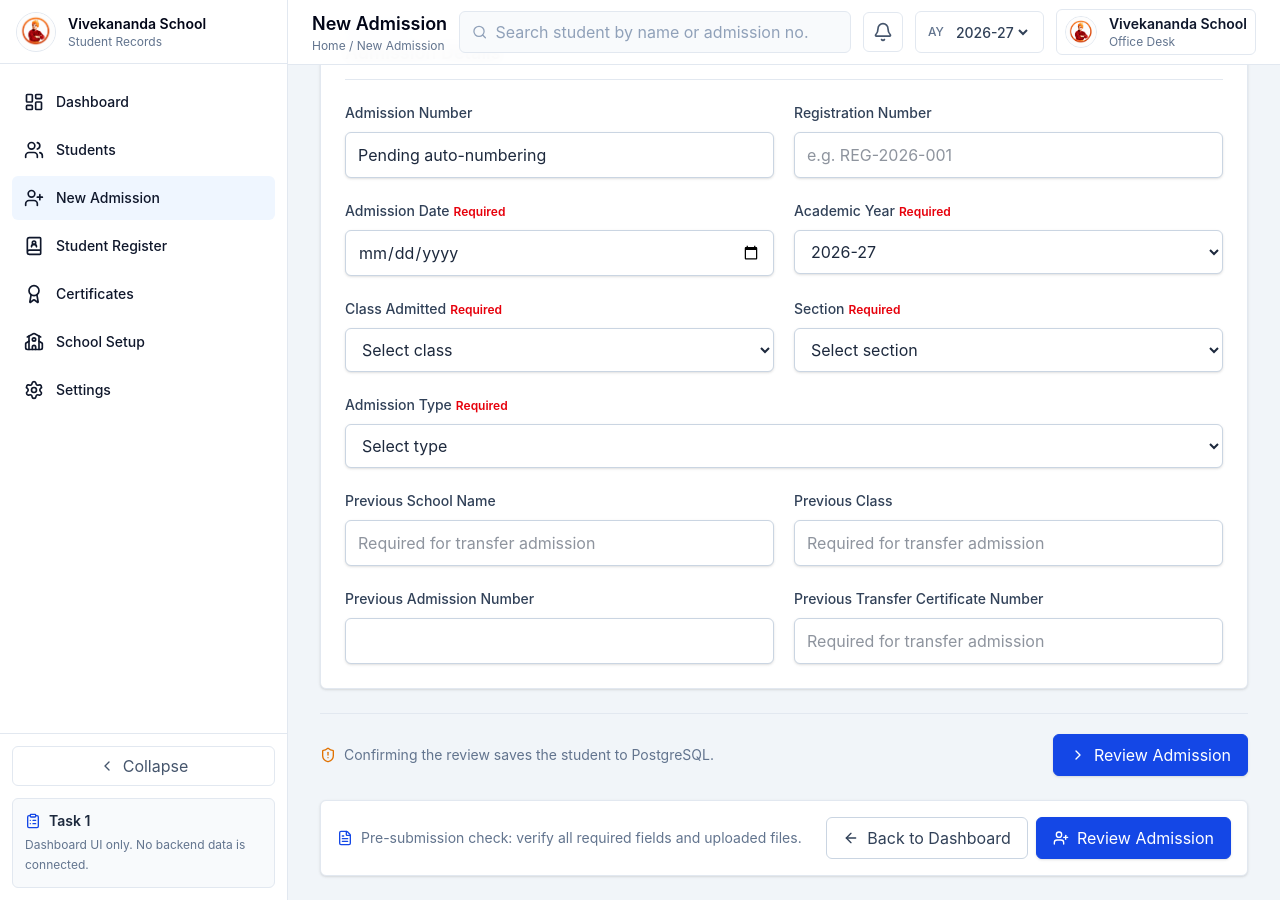
new admission › validates required admission fields before saving
(page scrolled)
Click the button "Review Admission" below "Previous Transfer Certificate Number" at (1150, 755), box [1053,734,1248,776]
(page scrolled)
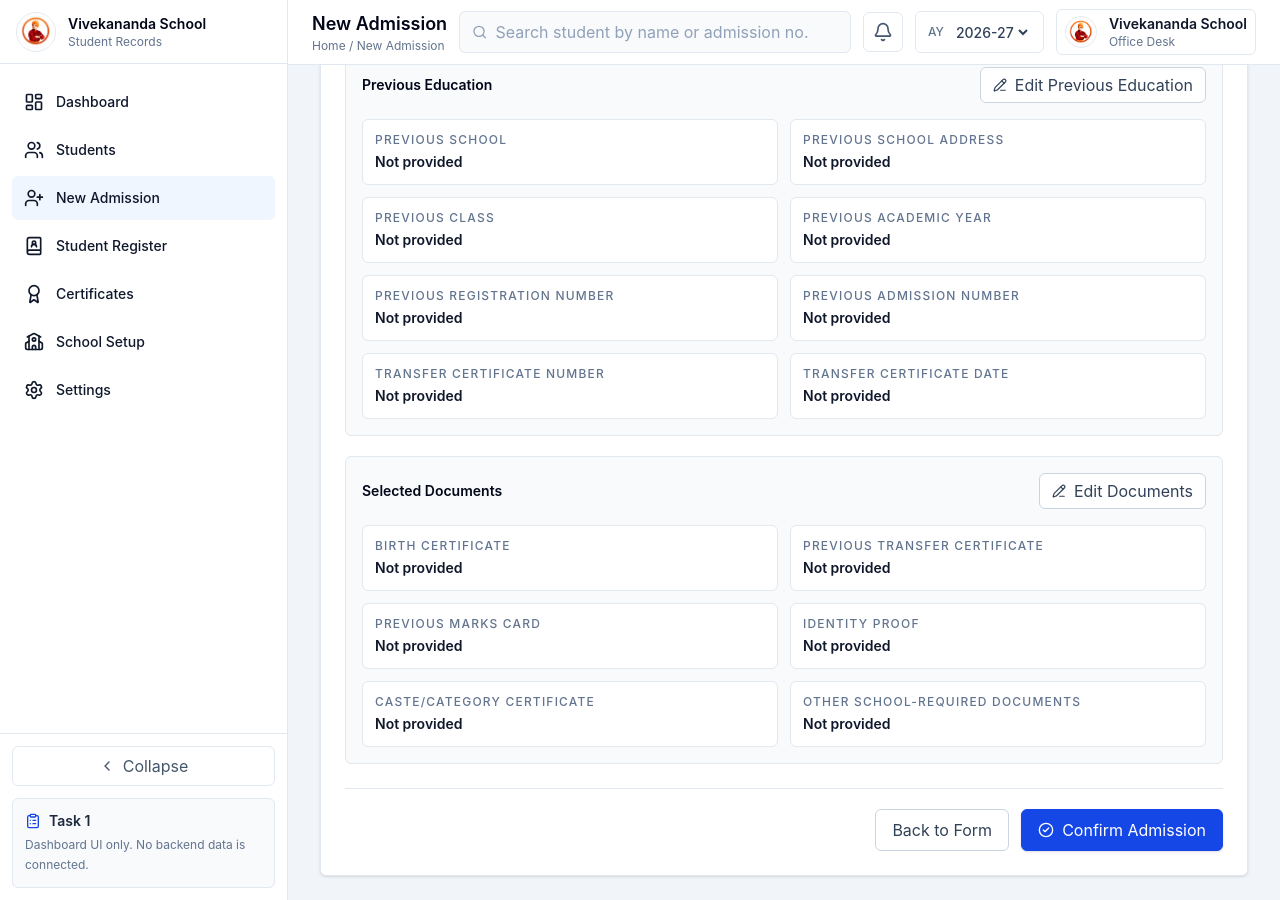
Click the button "Confirm Admission" at (1122, 830), box [1021,809,1223,851]
(page scrolled)
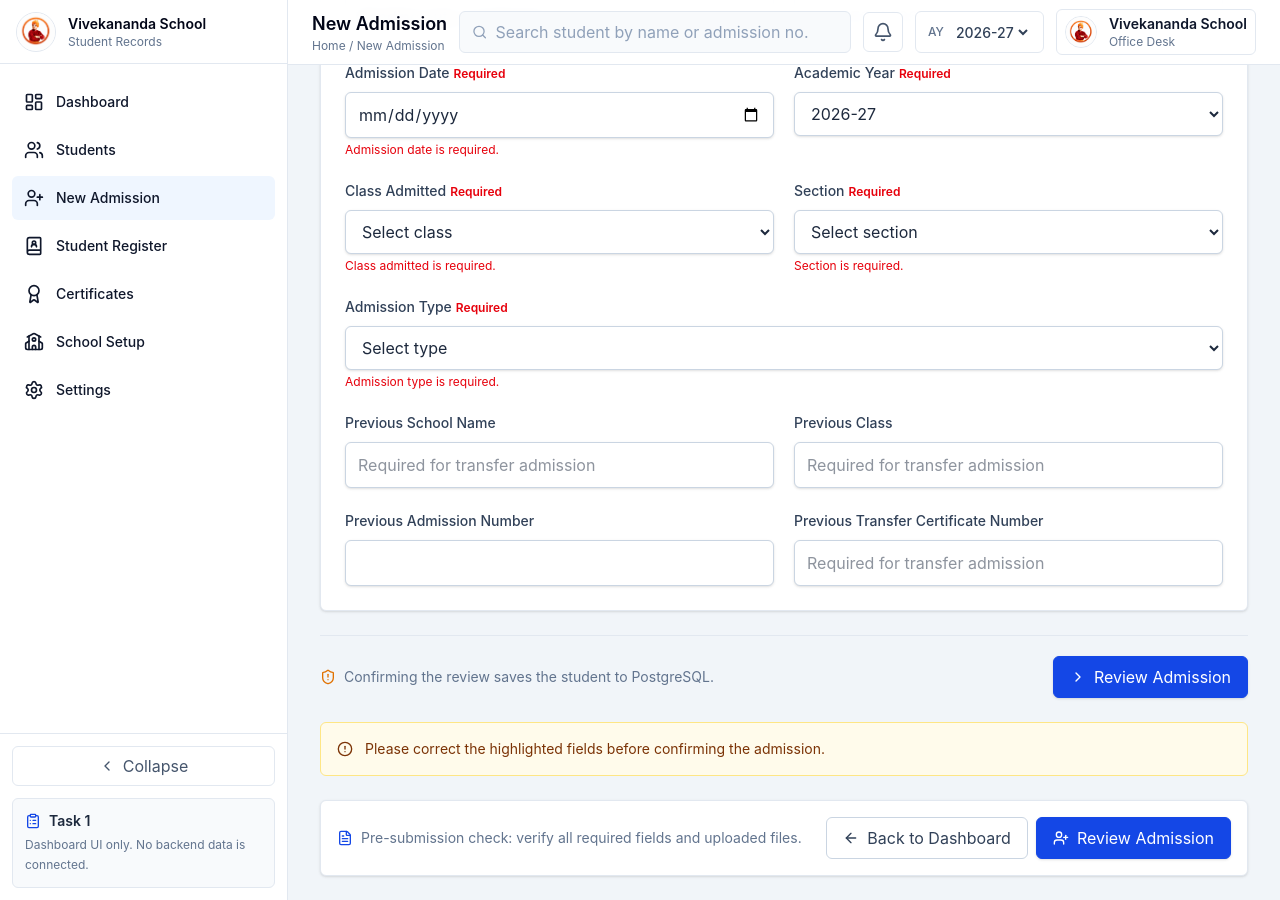
Expected: the text "Admission date is required." is shown, [345,142,499,157]
Expected: the text "Class admitted is required." is shown, [345,258,496,273]
Expected: the text "Section is required." is shown, [794,258,904,273]
